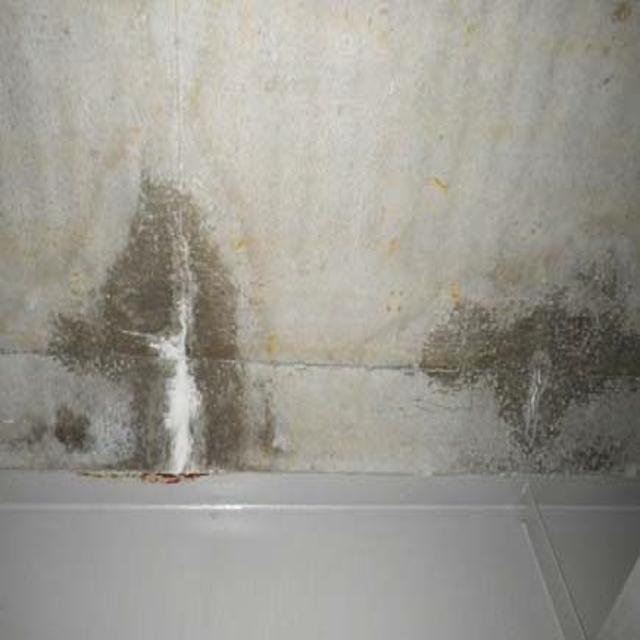freelime: (143, 263, 221, 473)
